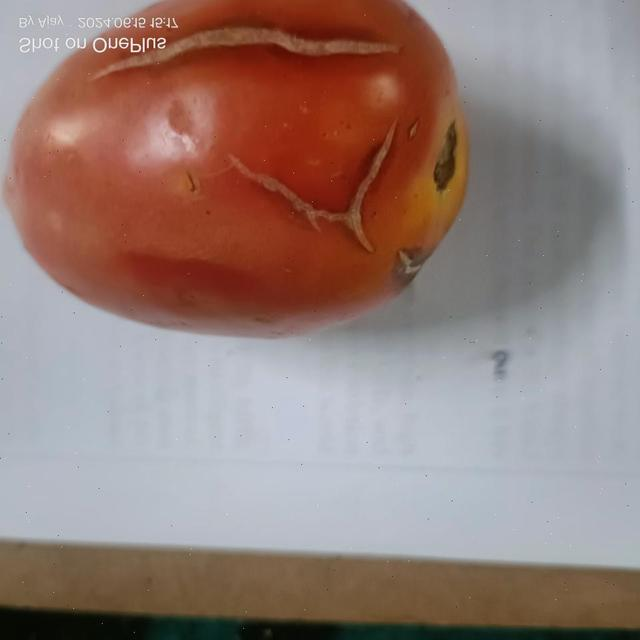Cracking Fruit: (36, 28, 246, 129)
